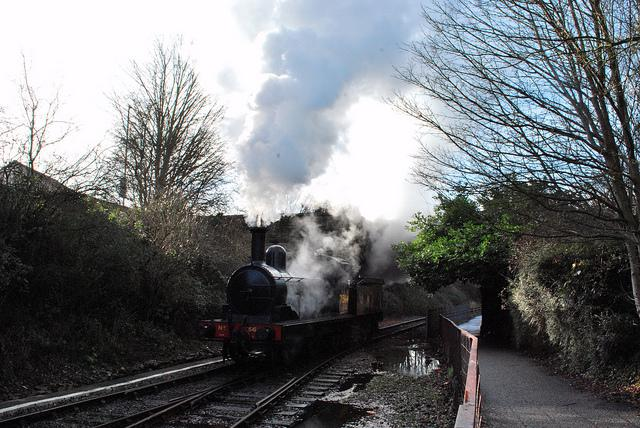Train: (199, 225, 388, 378)
